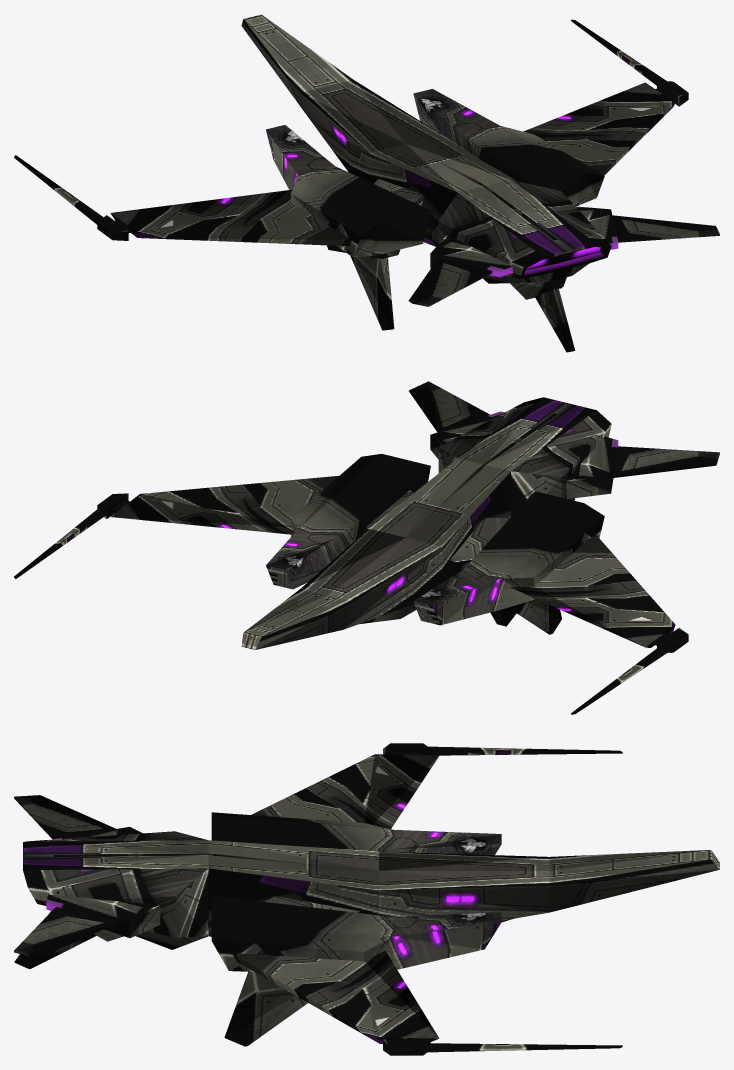
File: Type Ib.fbx
The picture shows the model from 3 angles, top to bottom: view 1: azimuth 30°, elevation 25°; view 2: azimuth 150°, elevation 25°; view 3: azimuth 270°, elevation 25°; orthographic projection. The views are drawn at different scales.
Parts seen in each view (by area): view 1: Type Ib; view 2: Type Ib; view 3: Type Ib.
Boxes of the visible parts, x1,y1,x2,y2 form: Type Ib: [14, 14, 719, 352]; Type Ib: [14, 381, 719, 714]; Type Ib: [14, 743, 719, 1055].
Size of the model in its own units: 121 by 27.32 by 118.
1 material, 1 textured.
